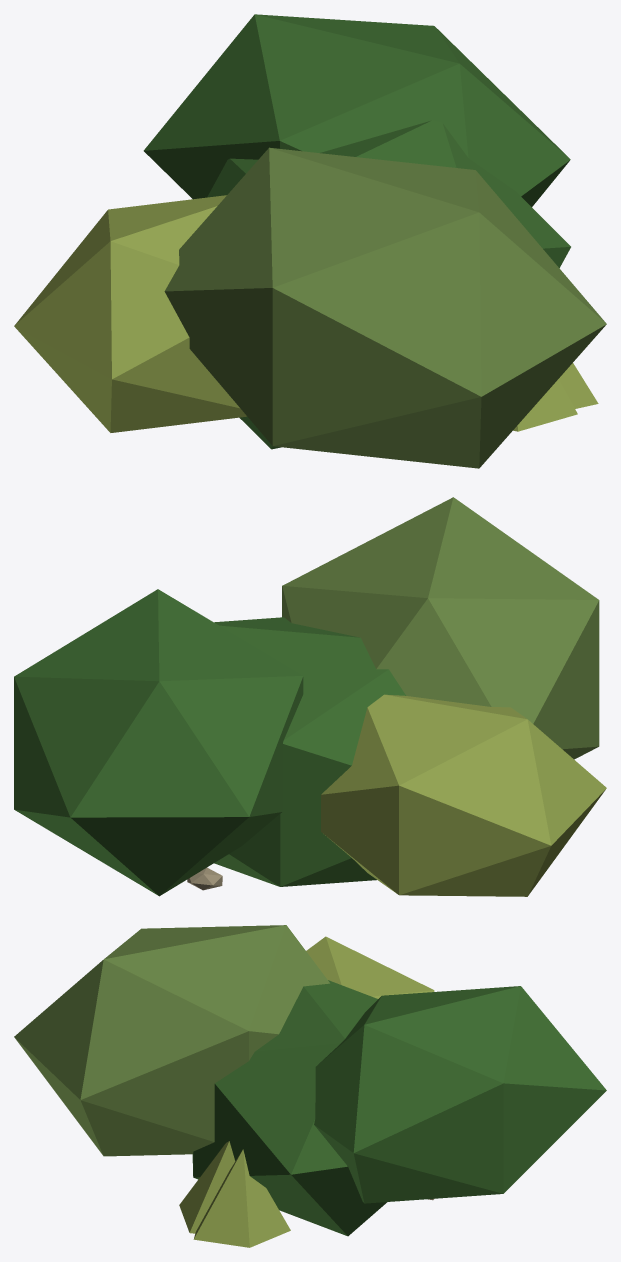
The model's file is pw_shrub_01.glb.
The picture shows the model from 3 angles, top to bottom: view 1: azimuth 30°, elevation 25°; view 2: azimuth 150°, elevation 25°; view 3: azimuth 270°, elevation 25°; orthographic projection. The views are drawn at different scales.
Parts seen in each view (by area): view 1: object 1, shrub-batch-0, object 2, vegetation-ground-tufts-baked; view 2: shrub-batch-0, object 1, object 2, vegetation-ground-pebbles-baked; view 3: shrub-batch-0, object 1, vegetation-ground-tufts-baked, object 2.
Boxes of the visible parts, left/top/right/bottom form: object 1: left=164, top=147, right=606, bottom=468; shrub-batch-0: left=143, top=14, right=570, bottom=449; object 2: left=14, top=195, right=246, bottom=432; vegetation-ground-tufts-baked: left=513, top=363, right=598, bottom=431; shrub-batch-0: left=14, top=589, right=405, bottom=896; object 1: left=282, top=497, right=599, bottom=759; object 2: left=321, top=694, right=606, bottom=896; vegetation-ground-pebbles-baked: left=187, top=867, right=222, bottom=890; shrub-batch-0: left=192, top=980, right=606, bottom=1236; object 1: left=14, top=925, right=329, bottom=1156; vegetation-ground-tufts-baked: left=179, top=1141, right=290, bottom=1247; object 2: left=306, top=936, right=434, bottom=998.
Size of the model in its own units: 2.53 by 1.35 by 3.13.
